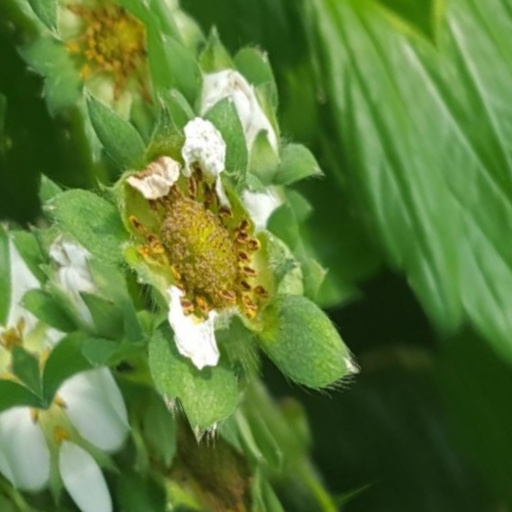Blossom Blight: (240, 134, 373, 323)
